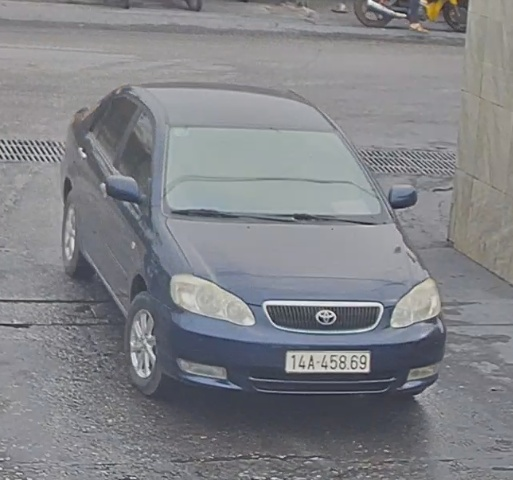vehicle plate: (282, 341, 373, 376)
